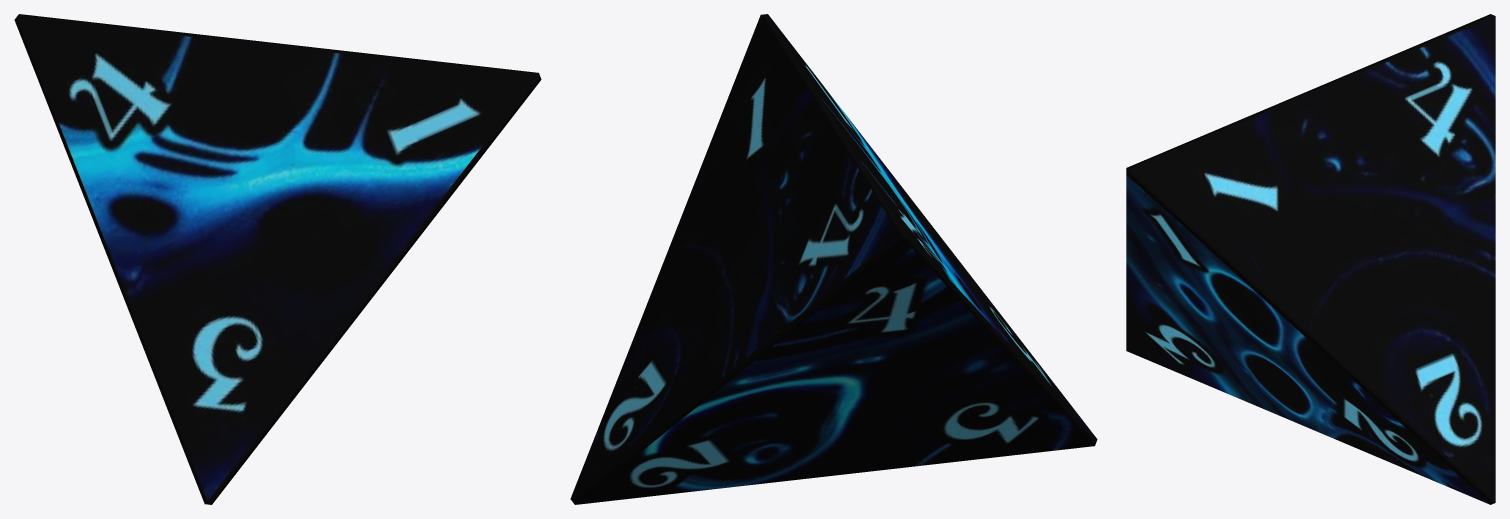
Rendered from rainfall_d4.glb.
The picture shows the model from 3 angles, left to right: view 1: azimuth 30°, elevation 25°; view 2: azimuth 150°, elevation 25°; view 3: azimuth 270°, elevation 25°; orthographic projection. The views are drawn at different scales.
Parts seen in each view (by area): view 1: Mesh_0; view 2: Mesh_0; view 3: Mesh_0.
Part boxes in pixels (x1=…): Mesh_0: x1=14, y1=14, x2=541, y2=504; Mesh_0: x1=570, y1=14, x2=1097, y2=504; Mesh_0: x1=1126, y1=14, x2=1495, y2=504.
Size of the model in its own units: 135 by 135 by 135.
1 material, 1 textured.
